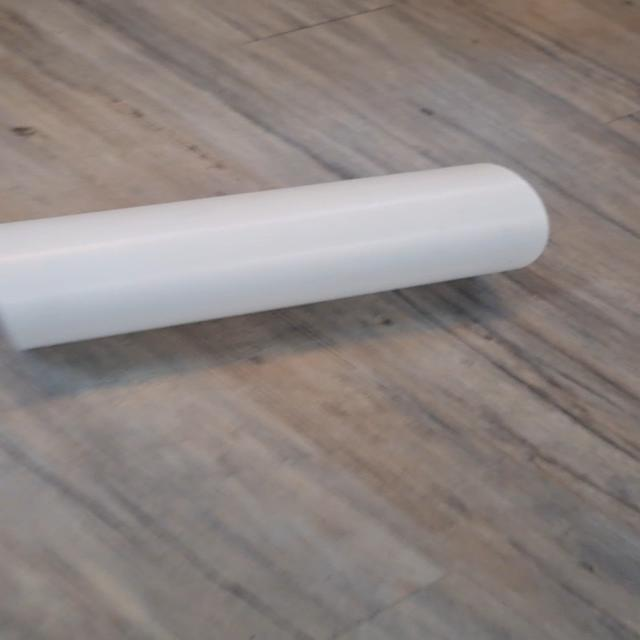CORAL: (0, 160, 558, 360)
